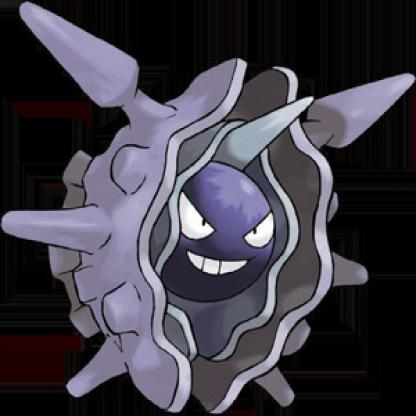Cloyster: (12, 1, 416, 416)
